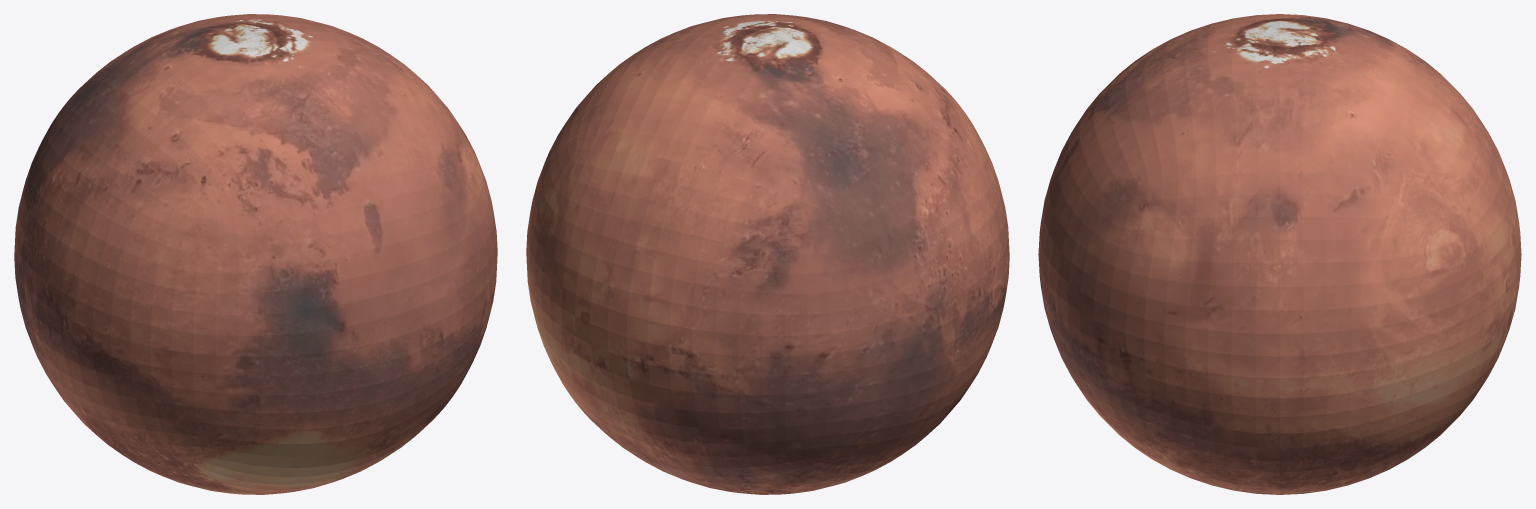
The model's file is mars.glb.
The picture shows the model from 3 angles, left to right: view 1: azimuth 30°, elevation 25°; view 2: azimuth 150°, elevation 25°; view 3: azimuth 270°, elevation 25°; orthographic projection.
Parts seen in each view (by area): view 1: Cube.008; view 2: Cube.008; view 3: Cube.008.
Part boxes in pixels (x1=…): Cube.008: x1=14, y1=14, x2=497, y2=494; Cube.008: x1=526, y1=14, x2=1009, y2=494; Cube.008: x1=1038, y1=14, x2=1521, y2=494.
Size of the model in its own units: 1000 by 994 by 1000.
Materials: 1 (1 with a texture image).
